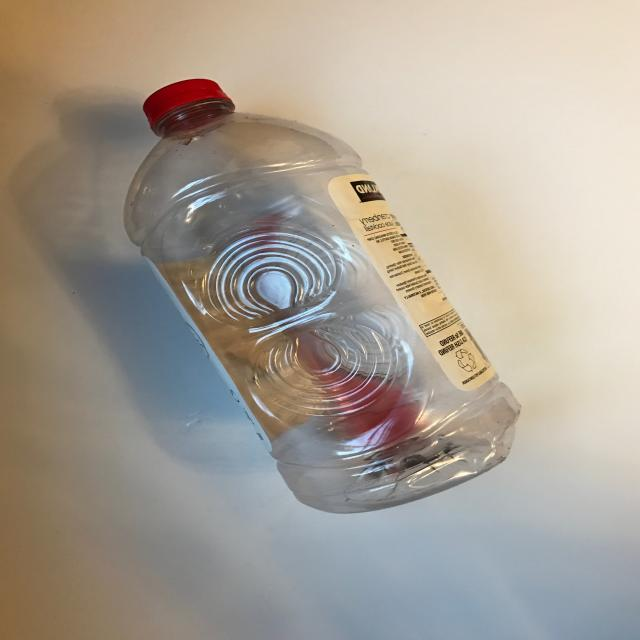plastic: (123, 78, 522, 514)
